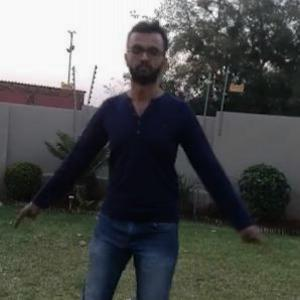land: (14, 43, 275, 299)
